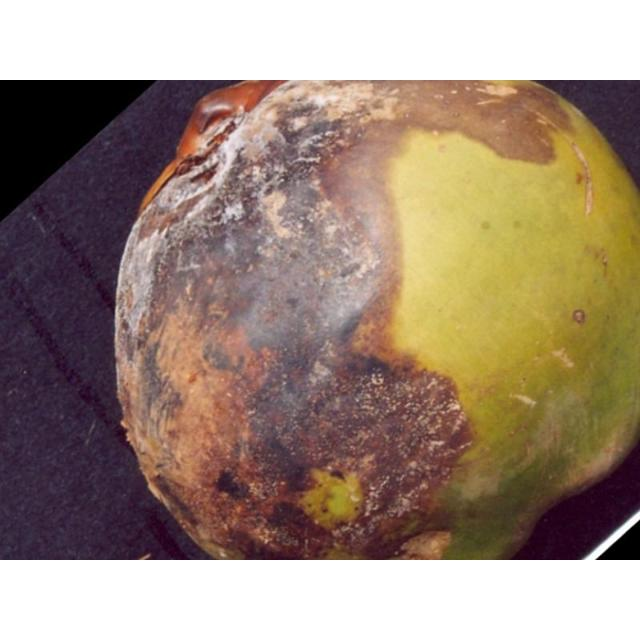damaged: (116, 80, 639, 559)
